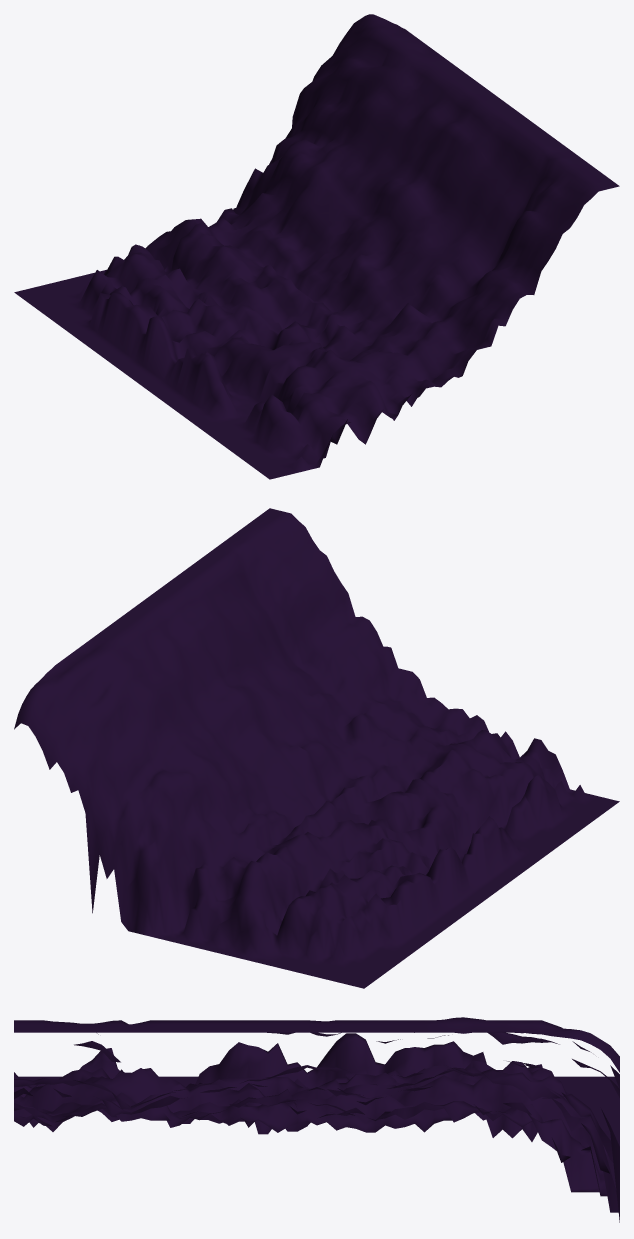
The model's file is soundMesh.glb.
3 renders of one model, top to bottom at view 1: azimuth 30°, elevation 25°; view 2: azimuth 150°, elevation 25°; view 3: azimuth 270°, elevation 25°, orthographic. The views are drawn at different scales.
Parts seen in each view (by area): view 1: soundMesh; view 2: soundMesh; view 3: soundMesh.
Boxes of the visible parts, x1=… form: soundMesh: x1=14, y1=14, x2=619, y2=479; soundMesh: x1=14, y1=508, x2=619, y2=988; soundMesh: x1=14, y1=1017, x2=619, y2=1222.
Bounding box in the file's own units: 49 × 27.79 × 62.
